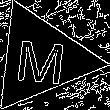M_N: (13, 31, 69, 86)
